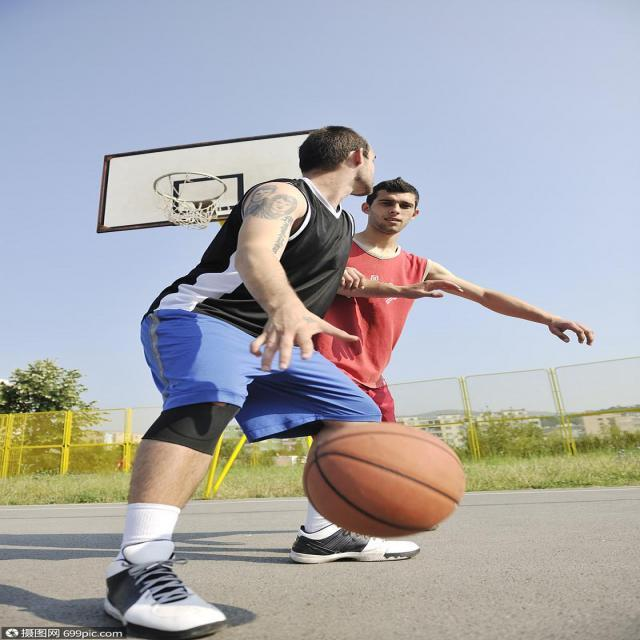rim: (310, 422, 464, 534)
